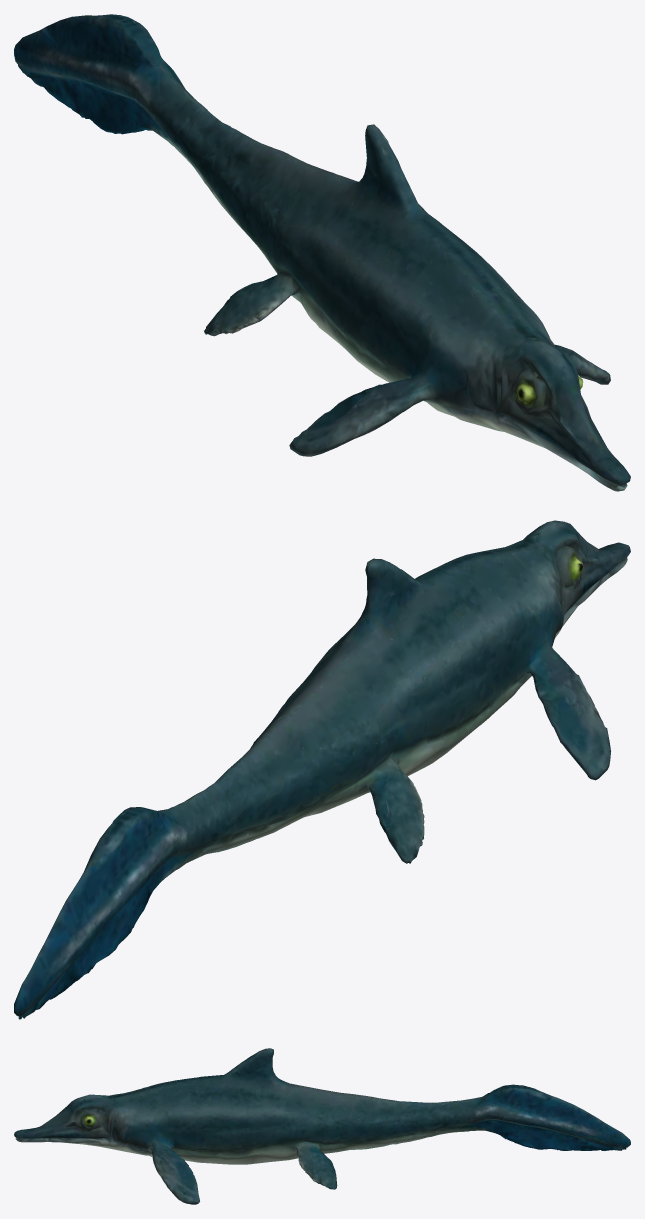
The model's file is Mixosaurus2.glb.
3 views of the same model, one above another, from view 1: azimuth 30°, elevation 25°; view 2: azimuth 150°, elevation 25°; view 3: azimuth 270°, elevation 25° (orthographic). The views are drawn at different scales.
Parts seen in each view (by area): view 1: geometry_0; view 2: geometry_0; view 3: geometry_0.
Part boxes in pixels (x1,y1,x2,y2): geometry_0: (14, 14, 630, 491); geometry_0: (14, 520, 630, 1019); geometry_0: (14, 1048, 630, 1204).
Bounding box in the file's own units: 0.2922 × 0.2133 × 1.
Materials: 1 (1 with a texture image).
